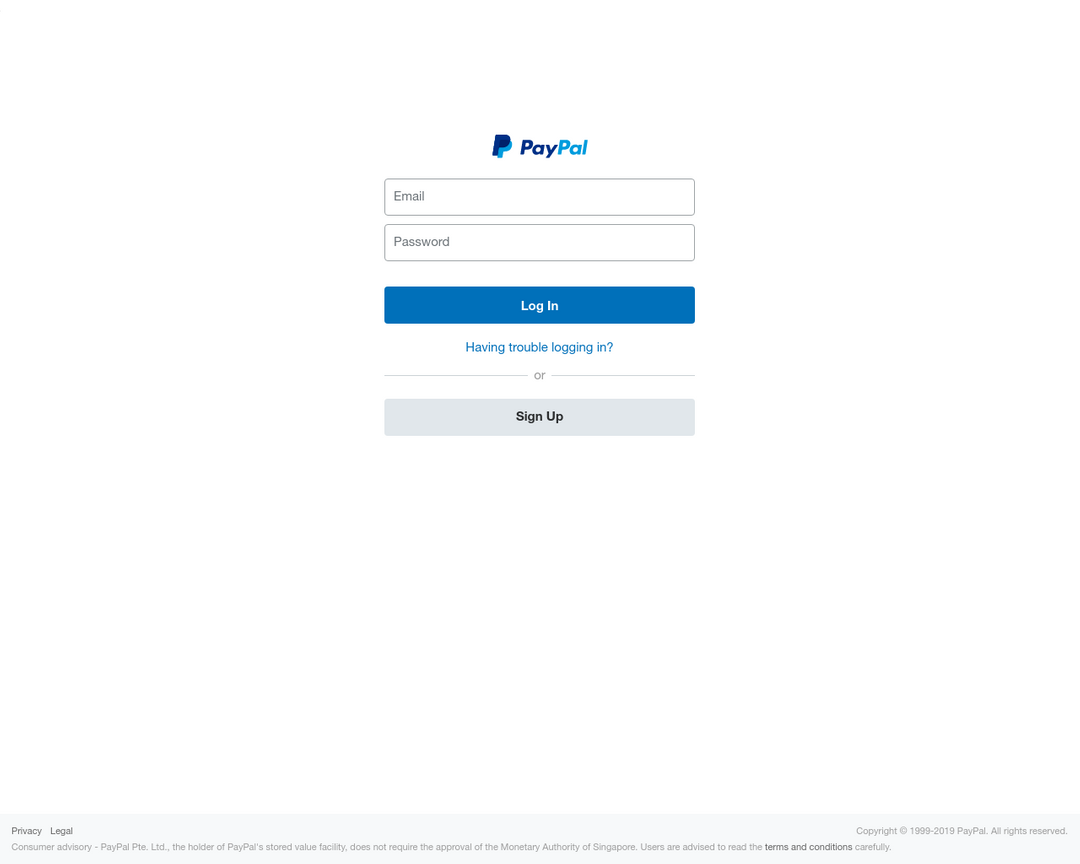Paypal: (484, 131, 591, 164)
